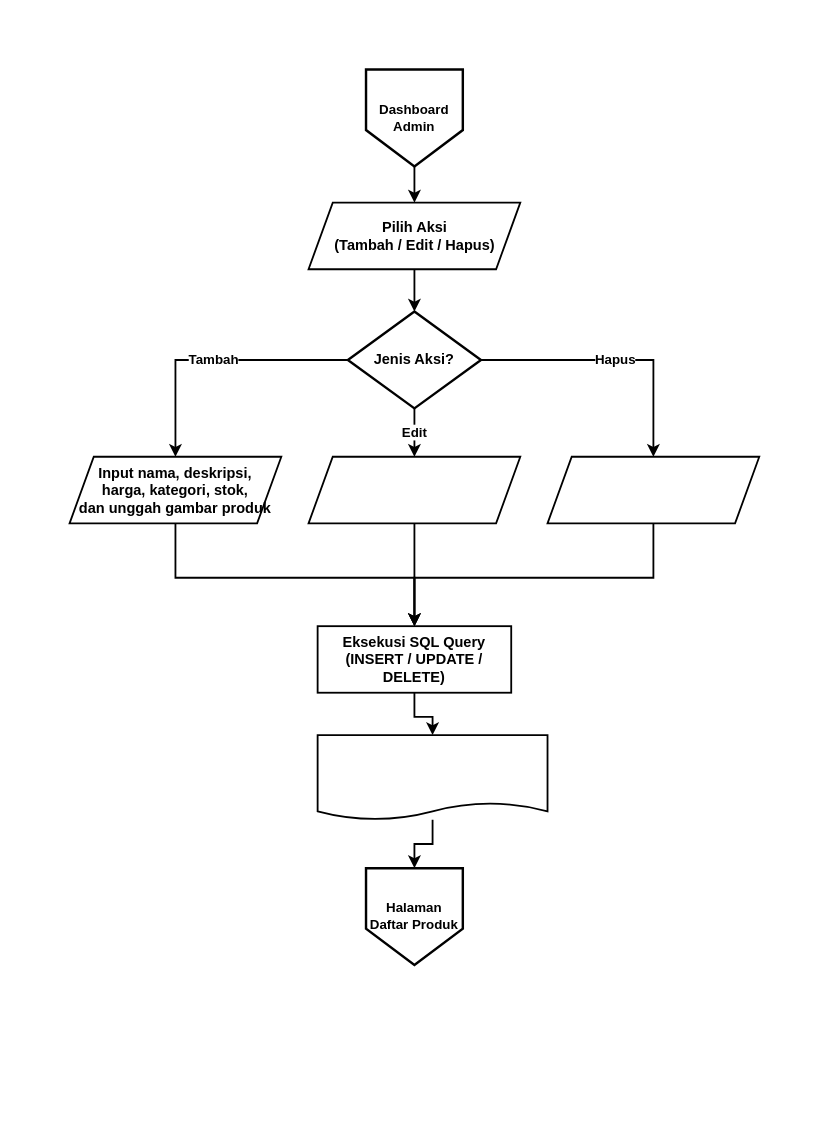
The diagram is 828 pixels wide and 1130 high, and some of its shapes have lost their labels. Here are the shapes that lost their labels. From the top down, the centre of each, then its label:
the point at 414,489: Ubah data produk terkait dan unggah gambar baru (opsional)
the point at 653,489: Konfirmasi penghapusan produk
the point at 432,777: Tampilkan daftar produk terupdate
